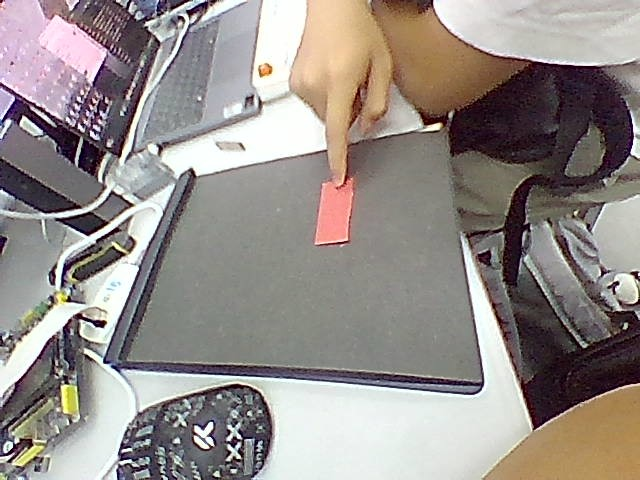card: (314, 178, 352, 245)
